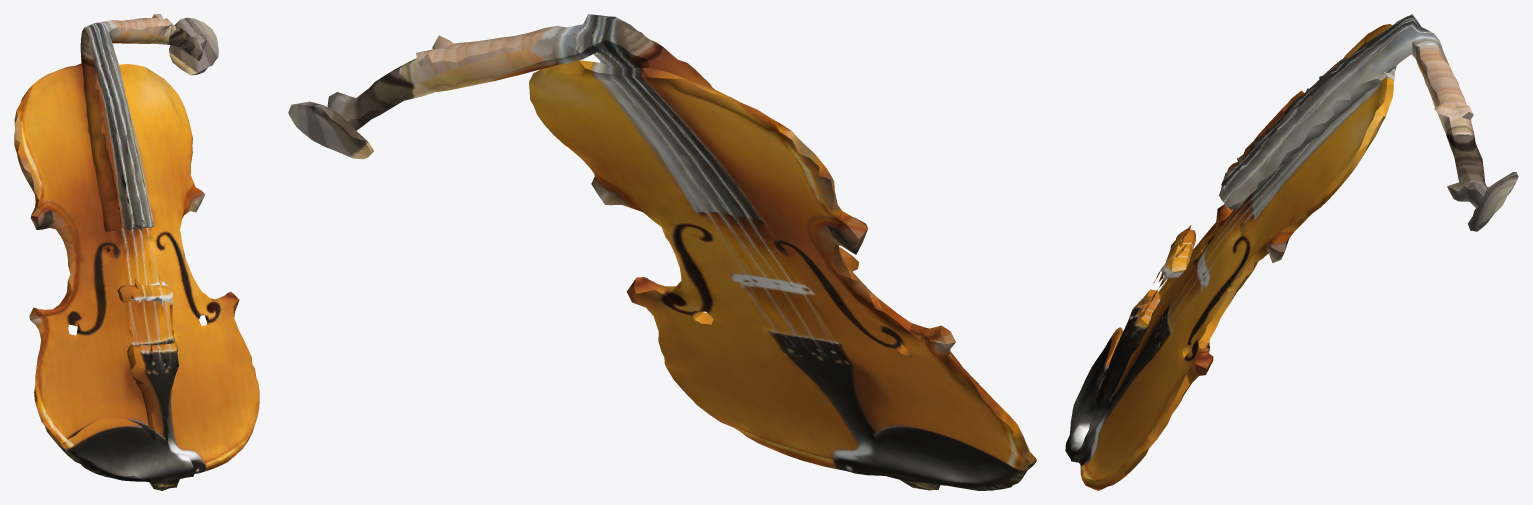
File: fiddle.glb
3 renders of one model, left to right at view 1: azimuth 30°, elevation 25°; view 2: azimuth 150°, elevation 25°; view 3: azimuth 270°, elevation 25°, orthographic. The views are drawn at different scales.
Visible parts, largest first — view 1: fiddle; view 2: fiddle; view 3: fiddle.
Part boxes in pixels (bbox=[...]): fiddle: bbox=[14, 14, 259, 490]; fiddle: bbox=[288, 14, 1036, 490]; fiddle: bbox=[1065, 14, 1518, 490].
Bounding box in the file's own units: 0.5357 × 0.6 × 0.5234.
1 material, 1 textured.
